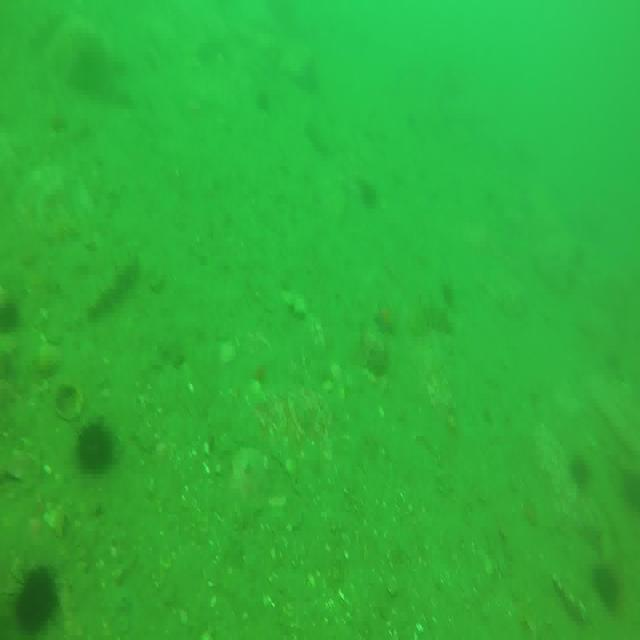echinus: (12, 570, 58, 638), (74, 414, 112, 478), (592, 564, 624, 614), (569, 444, 592, 492)
holothurian: (88, 256, 137, 324), (412, 300, 457, 335)
starfish: (372, 300, 398, 338)
